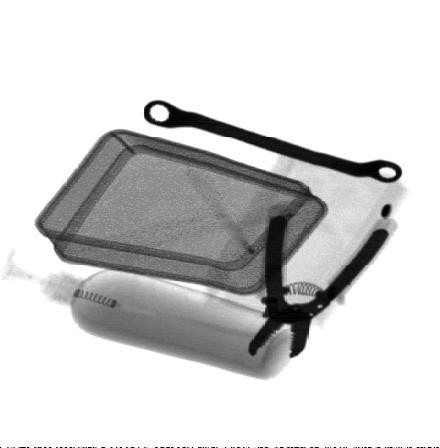Pliers: (244, 202, 402, 359)
Wrench: (141, 98, 406, 184)
